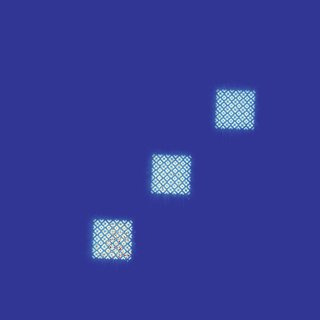overheated: (95, 220, 132, 259), (153, 156, 187, 192), (218, 92, 252, 125)
